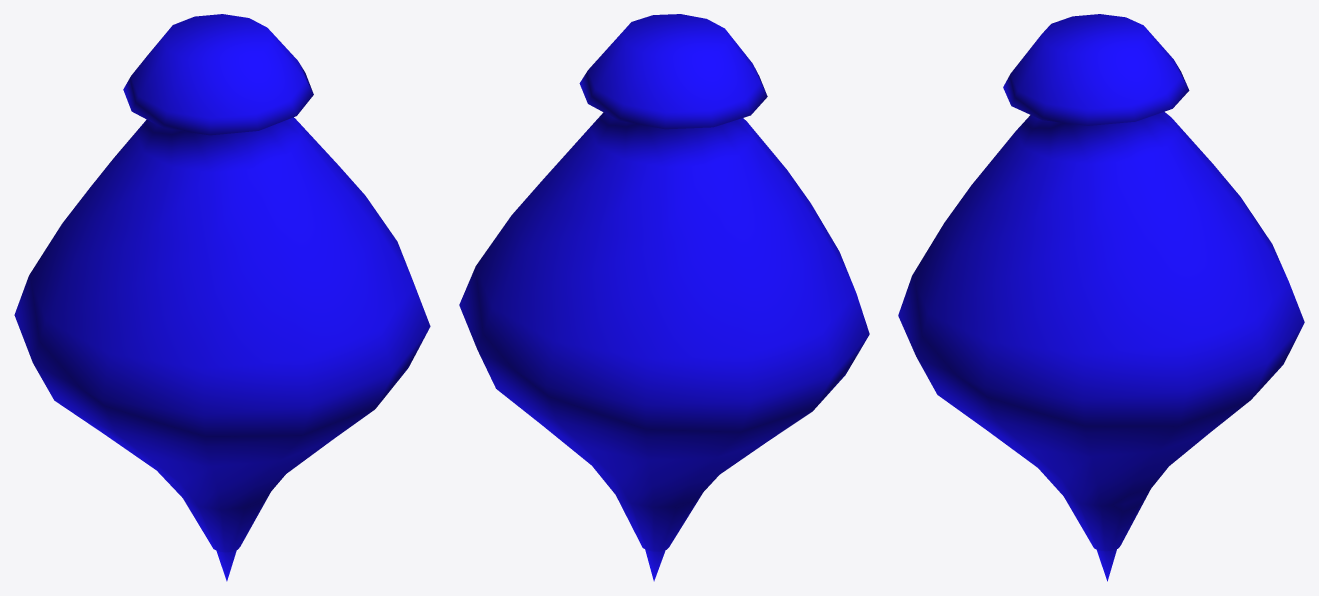
Rendered from piao azul.FBX.
3 views of the same model, side by side, from view 1: azimuth 30°, elevation 25°; view 2: azimuth 150°, elevation 25°; view 3: azimuth 270°, elevation 25° (orthographic). The views are drawn at different scales.
Parts seen in each view (by area): view 1: pião; view 2: pião; view 3: pião.
Boxes of the visible parts, bbox=[...] form: pião: bbox=[14, 14, 430, 581]; pião: bbox=[459, 14, 869, 581]; pião: bbox=[898, 14, 1304, 581].
Size of the model in its own units: 20.68 by 20.68 by 30.35.
